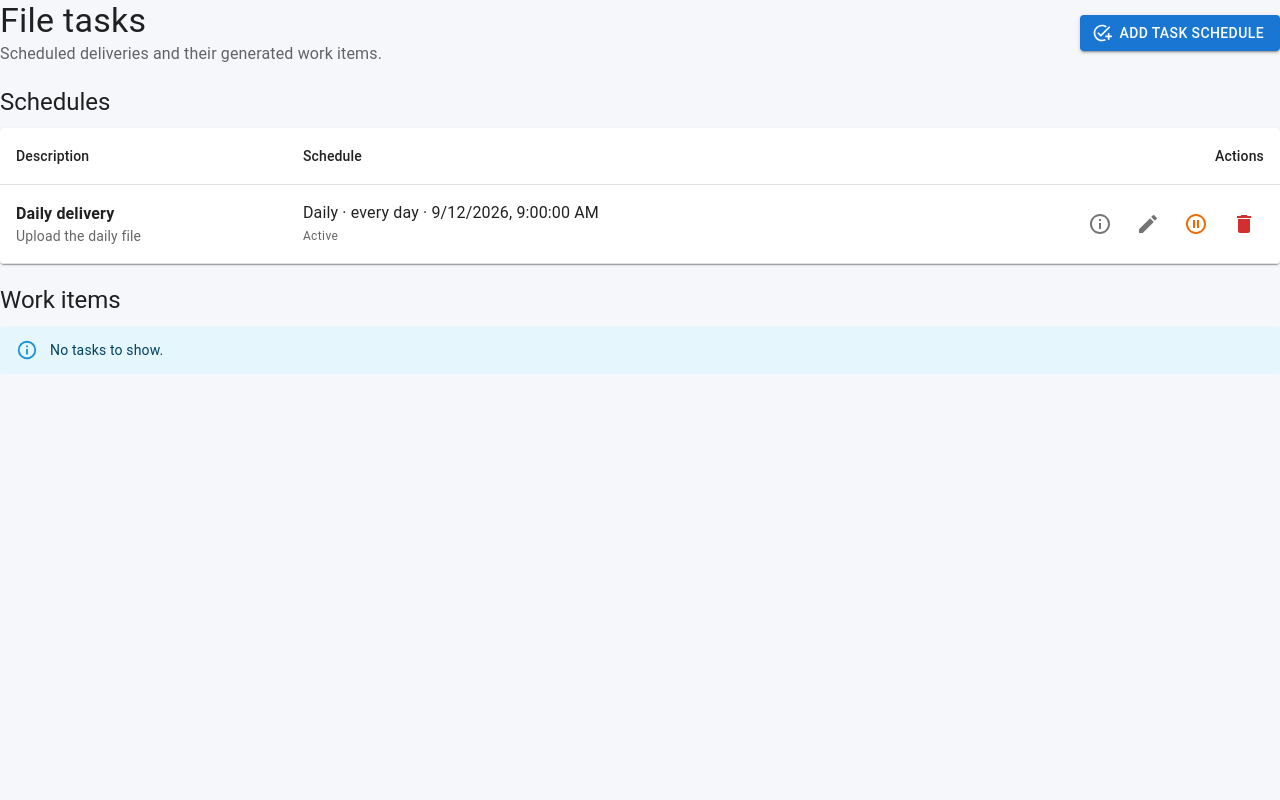
Test case: Task schedule dialogs › shows compact schedule rows, full hover details, and an editable popup
Expected: the table named "Task schedules" is shown, [0,128,1279,264]
Expected: the column heading "Description" is shown, [0,128,287,184]
Hover over the button named "View Daily delivery schedule details".
mouse_move(1100, 224)  # box [1080,204,1120,244]
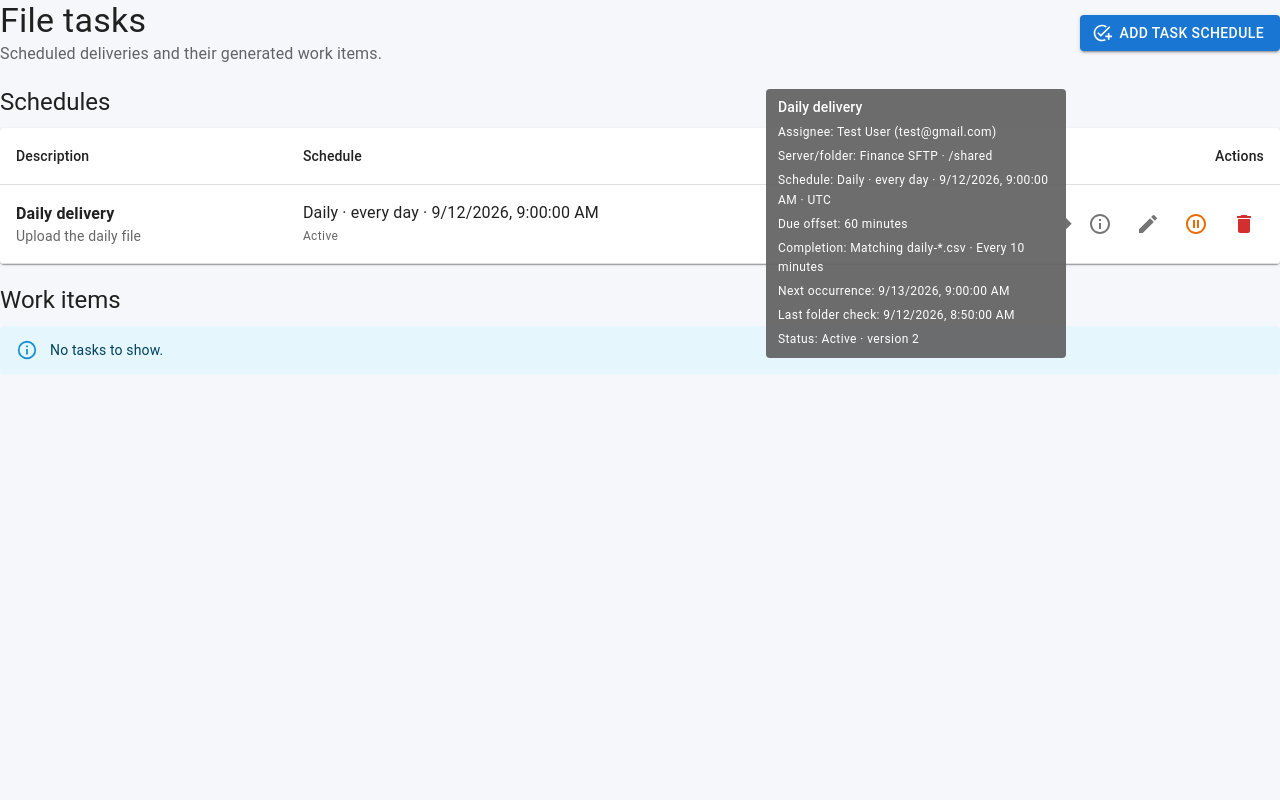
Expected: the text "Last folder check: 9/12/2026, 8:50:00 AM" is shown, [778,306,1054,326]
Click the button named "Edit Daily delivery".
click(1148, 224)  # box [1128,204,1168,244]
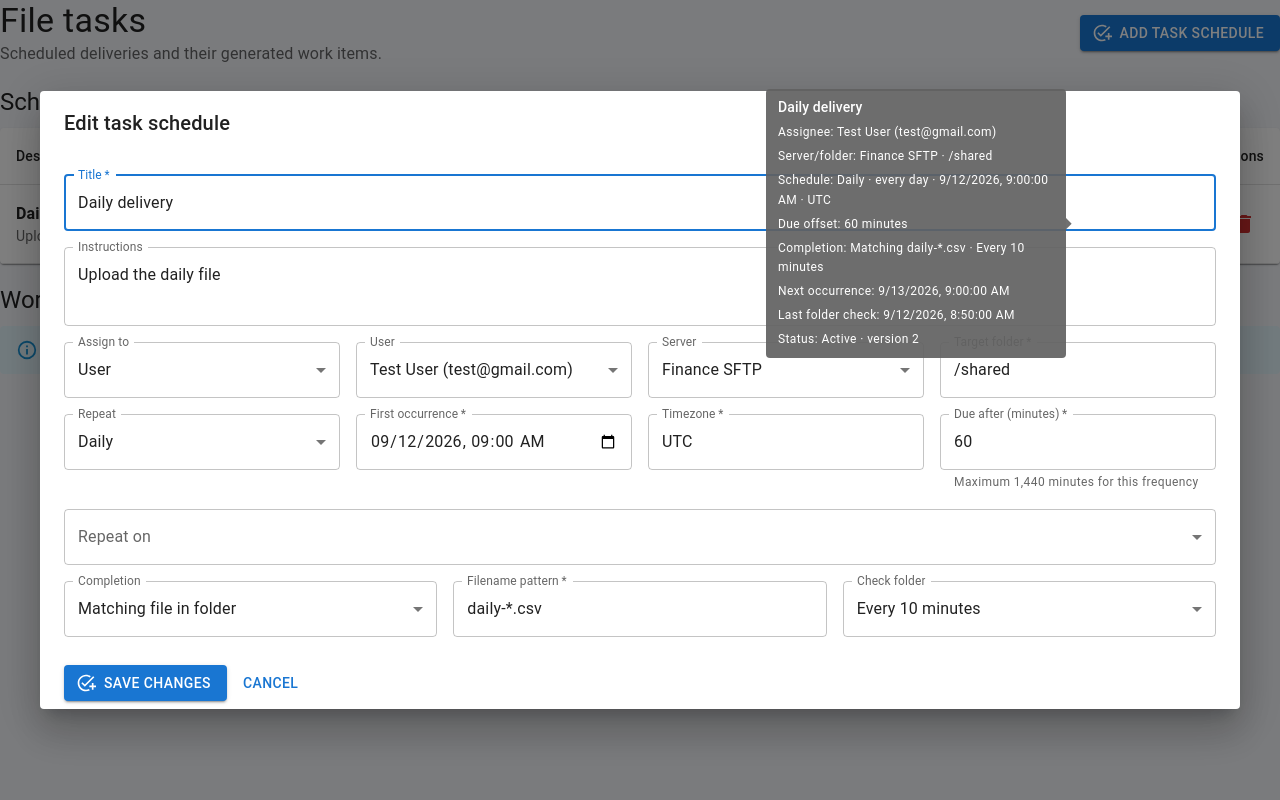
Expected: the field labelled "Title" holds "Daily delivery", [64,175,1216,231]
Replace the text in the text box labelled "Instructions" with "Updated instructions" at [640, 286], box [78,263,1202,309]
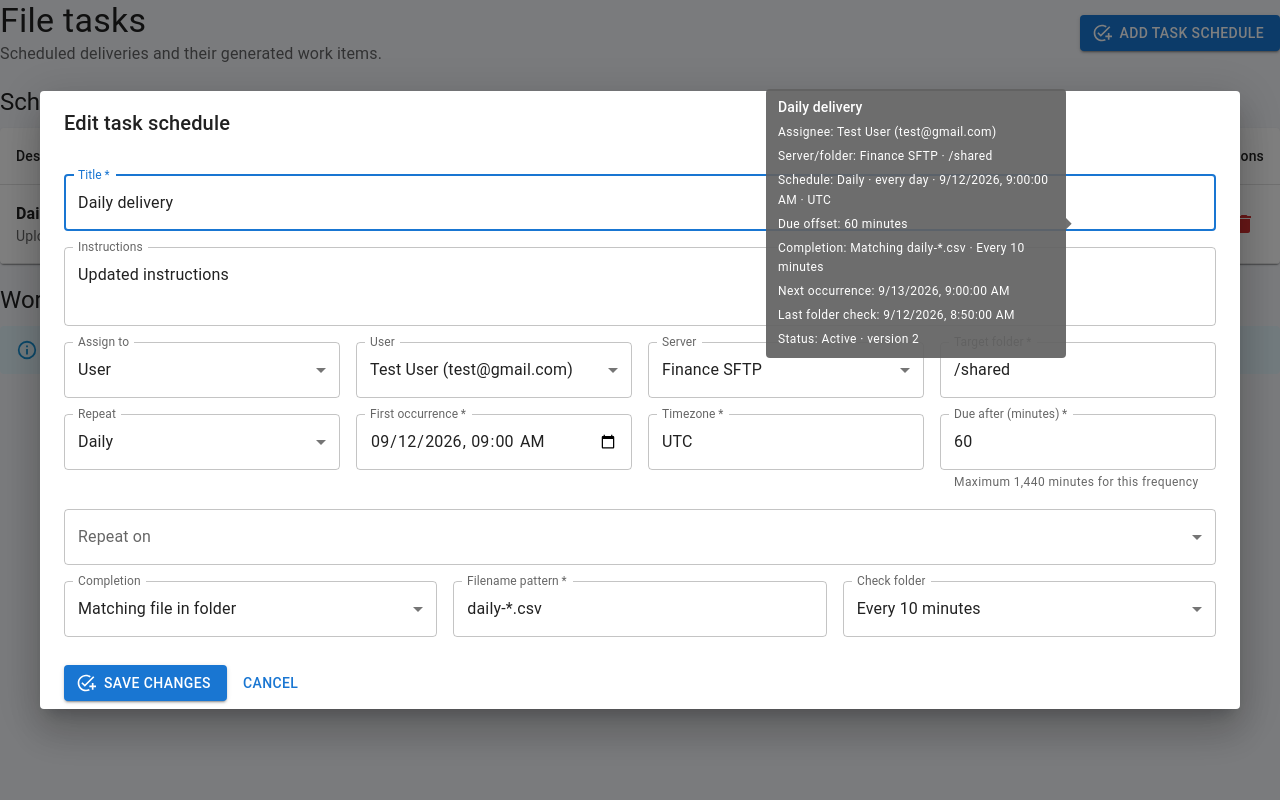
Click the button "Save changes".
click(145, 683)  # box [64,665,227,701]
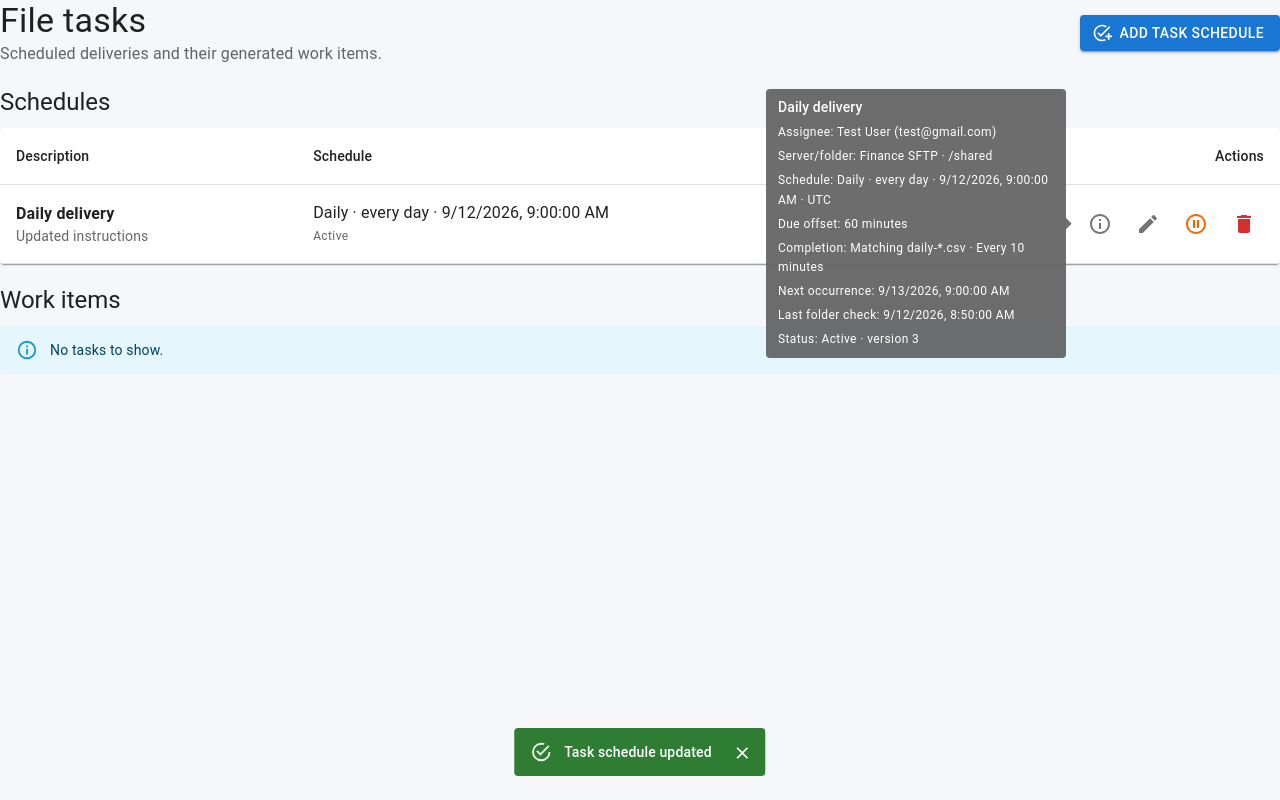
Expected: the text "Task schedule updated" is shown, [564,744,712,760]
